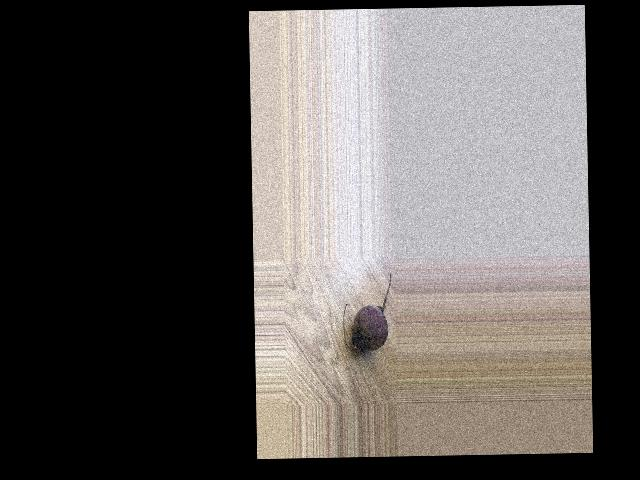beet: (342, 273, 393, 353)
